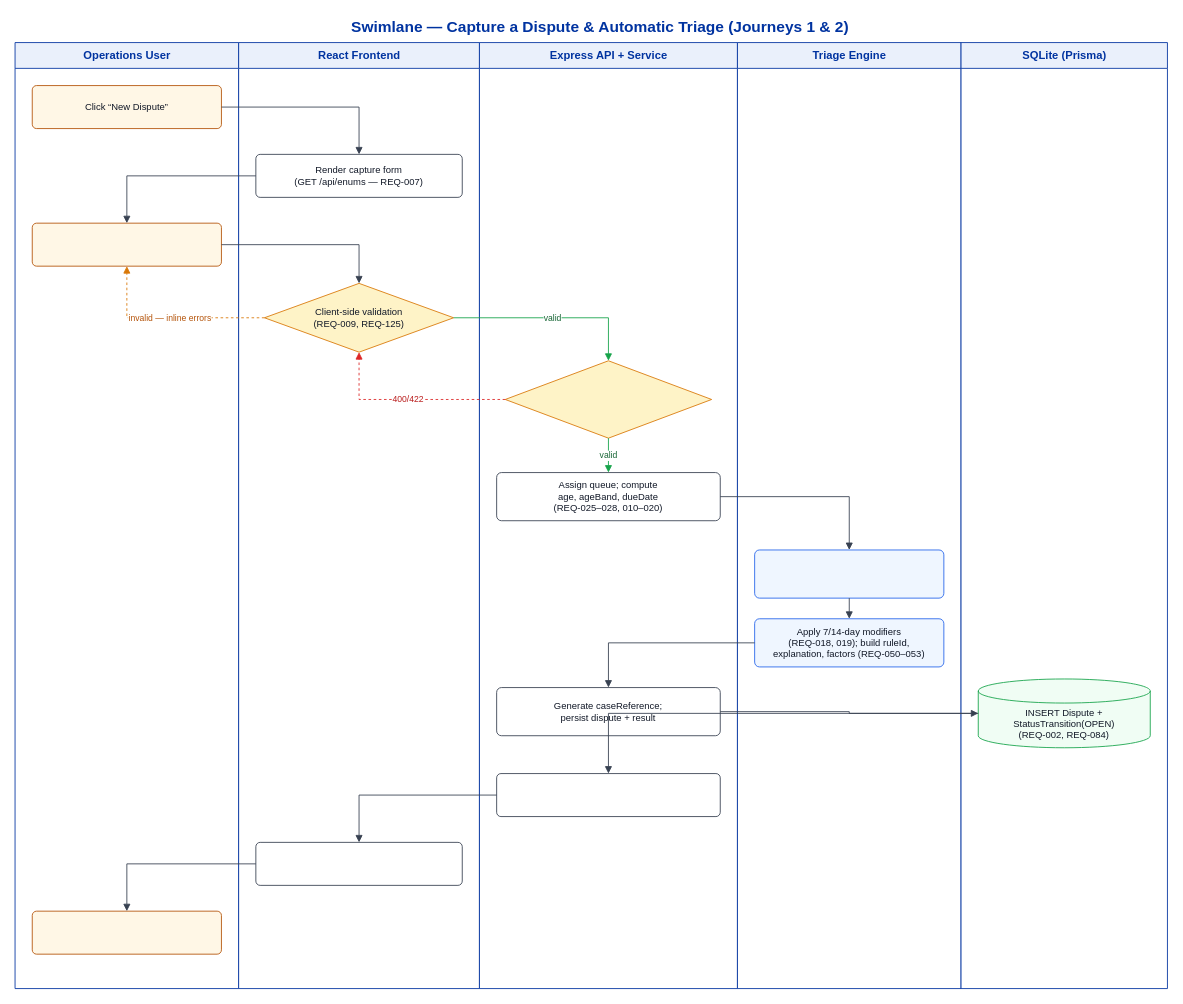
This 1183x1004 diagram has some shape labels left out. The centre of each missing label's shape, as x and y in pixels:
201 Created (full dispute + triage): the point at 608,795
Complete fields, click Submit: the point at 126,244
Evaluate rules in precedence order; first match wins (REQ-030–048): the point at 849,573
POST /api/disputes Server-side validation (REQ-003–009): the point at 608,399
Review recommended action & explanation: the point at 126,932
Show confirmation + recommendation (REQ-095): the point at 358,863
